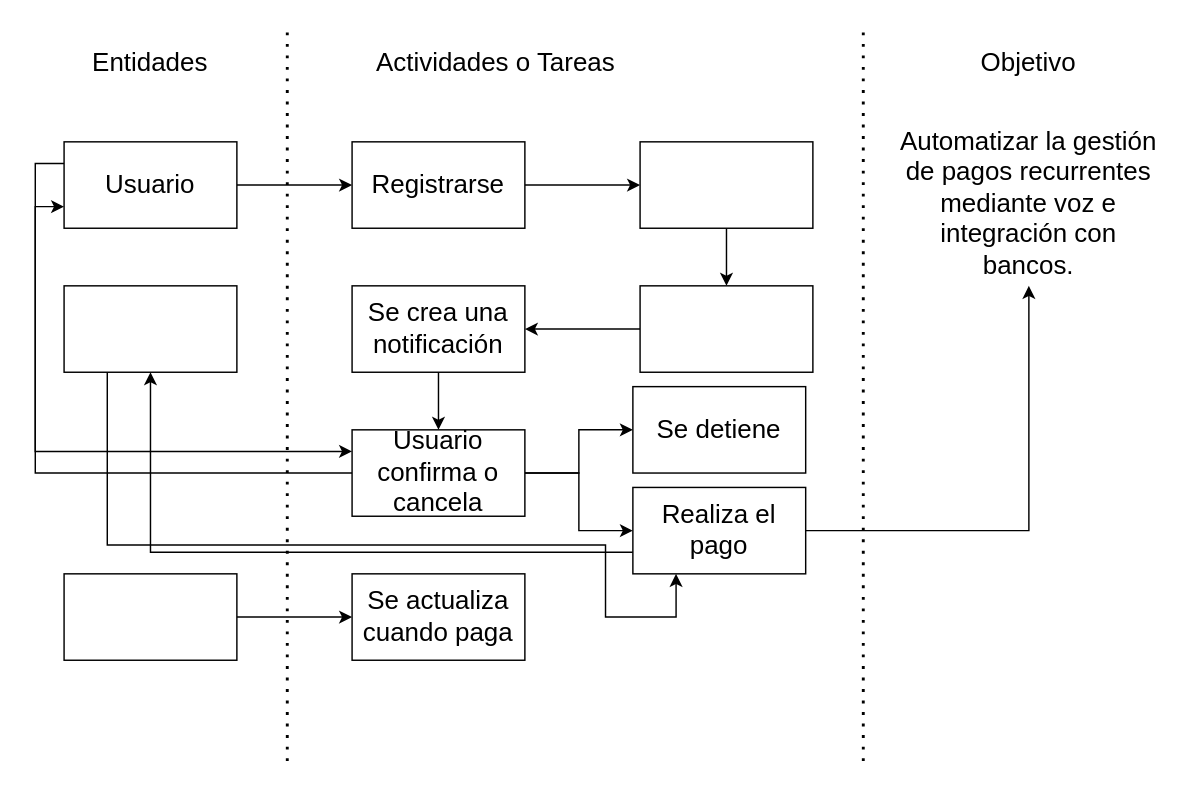
Image size: 1191x788. Some labels were removed from this diagram. The shapes that lost their labels are listed below. From the top down, each one's centre as x and y in pixels, then its label:
[726,184]: Da comando de voz
[150,328]: Banco / API
[726,328]: IA interpreta
[150,616]: Historial de Pagos
